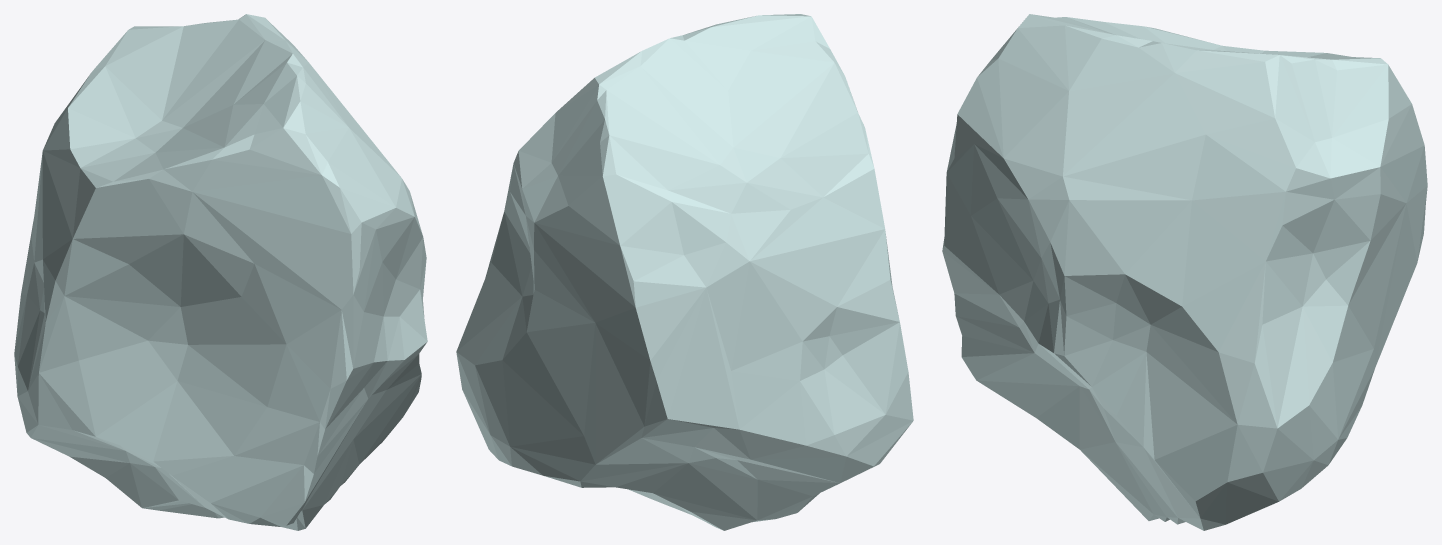
File: iceberg.fbx
The picture shows the model from 3 angles, left to right: view 1: azimuth 30°, elevation 25°; view 2: azimuth 150°, elevation 25°; view 3: azimuth 270°, elevation 25°; orthographic projection.
Parts seen in each view (by area): view 1: Cube; view 2: Cube; view 3: Cube.
Boxes of the visible parts, x1,y1,x2,y2 form: Cube: (14,14,427,530); Cube: (456,14,913,530); Cube: (942,14,1427,530).
Size of the model in its own units: 364 by 406 by 375.
